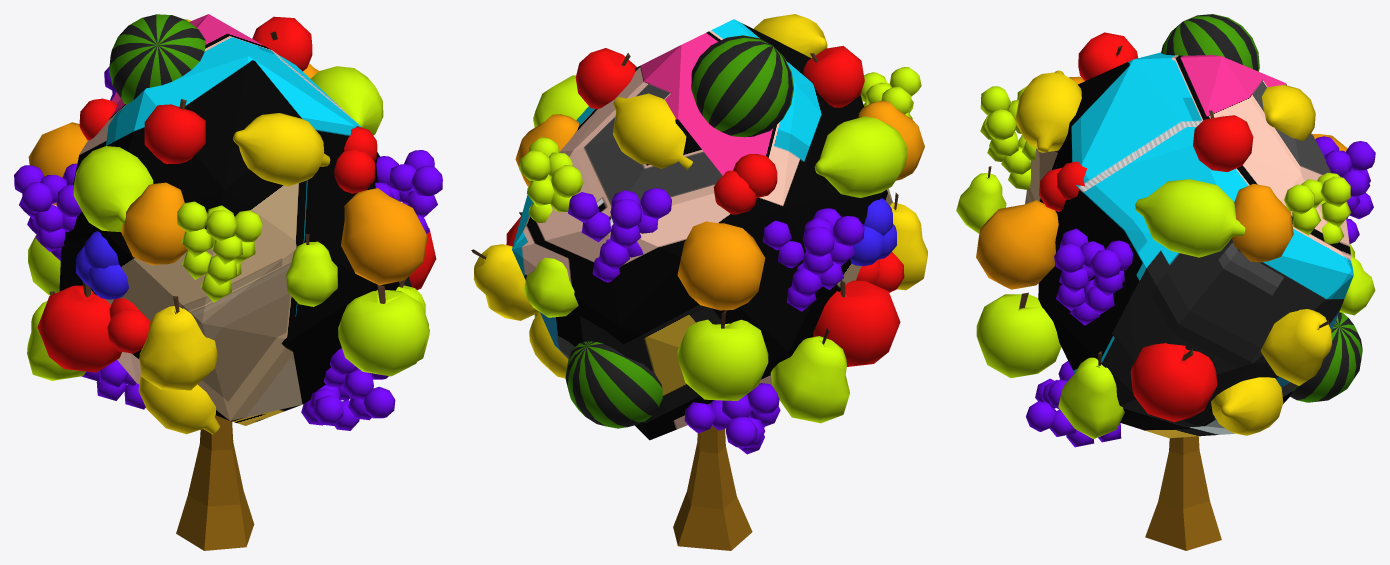
File: tree.FBX
The picture shows the model from 3 angles, left to right: view 1: azimuth 30°, elevation 25°; view 2: azimuth 150°, elevation 25°; view 3: azimuth 270°, elevation 25°; orthographic projection. The views are drawn at different scales.
Visible parts, largest first — view 1: GeoSphere001; view 2: GeoSphere001; view 3: GeoSphere001.
Part boxes in pixels (<box>): GeoSphere001: <box>14,14,442,550</box>; GeoSphere001: <box>471,14,927,550</box>; GeoSphere001: <box>956,14,1375,550</box>.
Bounding box in the file's own units: 136 × 134 × 174.
